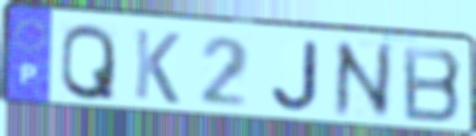2: (199, 35, 253, 110)
B: (400, 43, 465, 126)
J: (268, 39, 321, 114)
K: (132, 26, 182, 107)
N: (331, 39, 396, 121)
Q: (57, 21, 118, 103)
